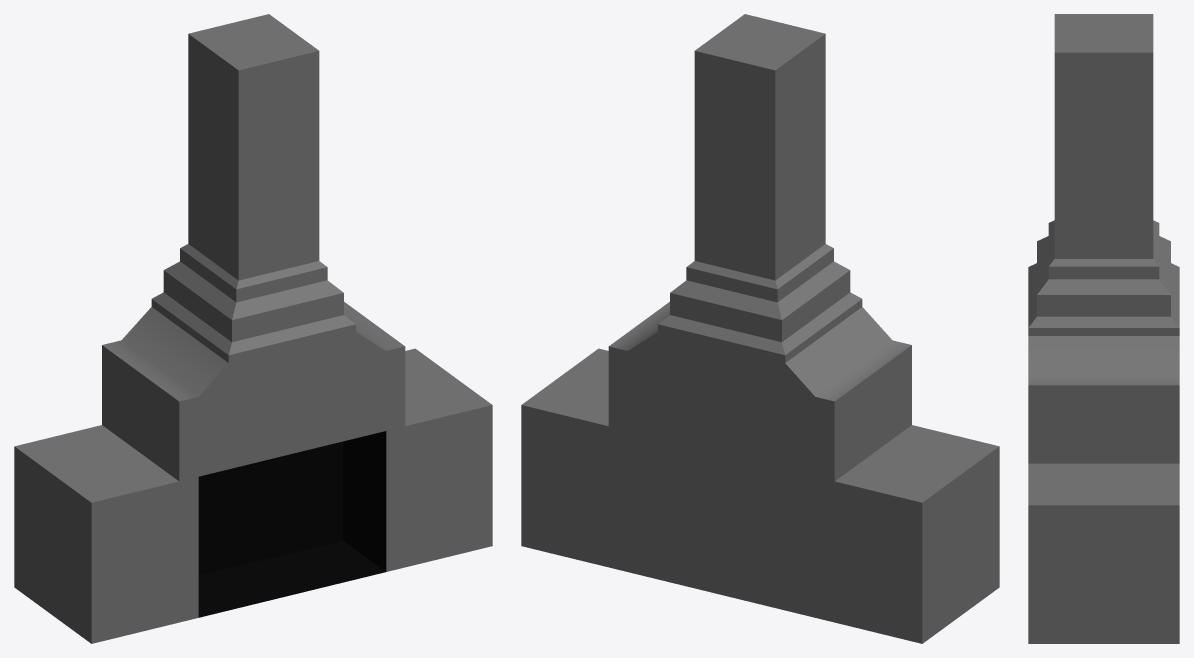
The model's file is SM_Forge_1.fbx.
3 renders of one model, left to right at view 1: azimuth 30°, elevation 25°; view 2: azimuth 150°, elevation 25°; view 3: azimuth 270°, elevation 25°, orthographic.
Parts seen in each view (by area): view 1: pCube1; view 2: pCube1; view 3: pCube1.
Boxes of the visible parts, x1,y1,x2,y2 form: pCube1: (14, 14, 492, 643); pCube1: (521, 14, 999, 643); pCube1: (1028, 14, 1179, 643).
Size of the model in its own units: 240 by 300 by 80.
